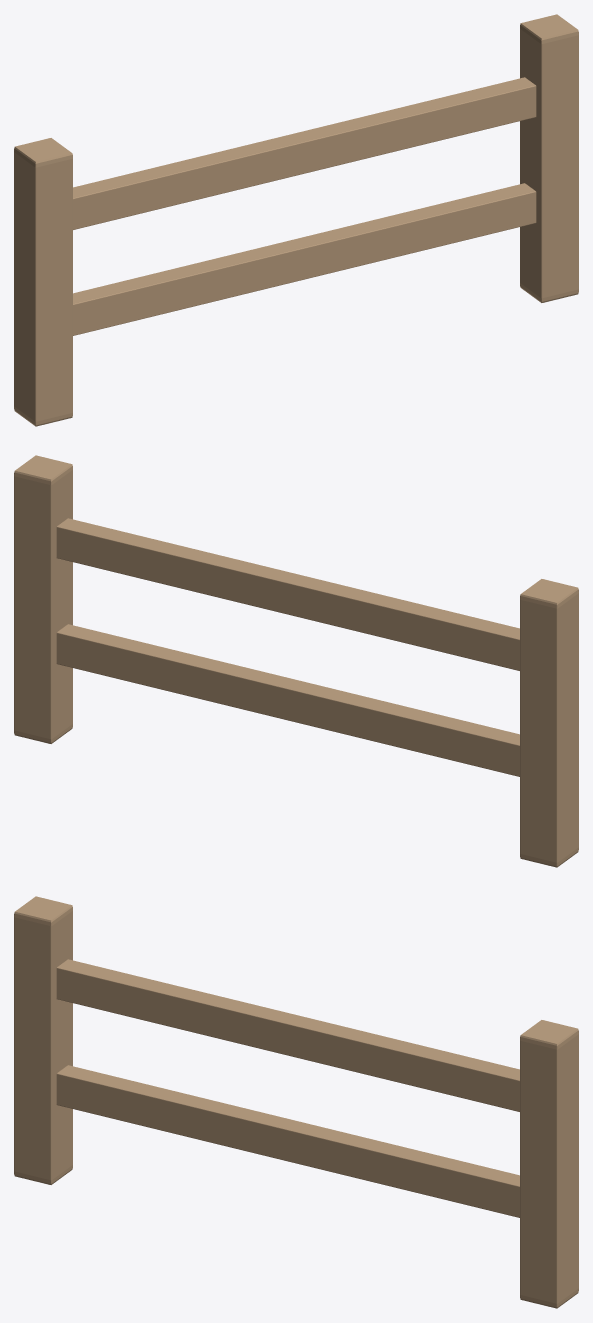
File: wooden_fence.glb
The picture shows the model from 3 angles, top to bottom: view 1: azimuth 30°, elevation 25°; view 2: azimuth 150°, elevation 25°; view 3: azimuth 330°, elevation 25°; orthographic projection.
Parts seen in each view (by area): view 1: Cube.002, Cube.003, Cube, Cube.001; view 2: Cube.002, Cube.003, Cube, Cube.001; view 3: Cube.002, Cube.003, Cube.001, Cube.
Boxes of the visible parts, x1,y1,x2,y2 form: Cube.002: (73,77,536,229); Cube.003: (73,183,536,335); Cube: (14,138,72,426); Cube.001: (520,14,578,302); Cube.002: (56,518,519,670); Cube.003: (56,624,519,776); Cube: (520,579,578,867); Cube.001: (14,455,72,743); Cube.002: (56,959,519,1111); Cube.003: (56,1065,519,1217); Cube.001: (520,1020,578,1308); Cube: (14,896,72,1184).
Size of the model in its own units: 2.15 by 1 by 0.15.
